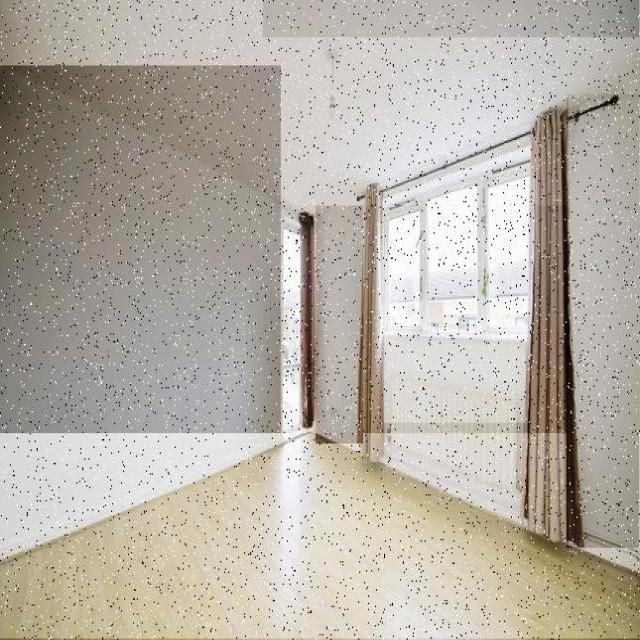Wall: (0, 66, 281, 560), (0, 1, 640, 205), (0, 435, 640, 639), (567, 94, 639, 548), (569, 94, 640, 548), (264, 1, 639, 37), (384, 336, 526, 423), (316, 206, 363, 444)
